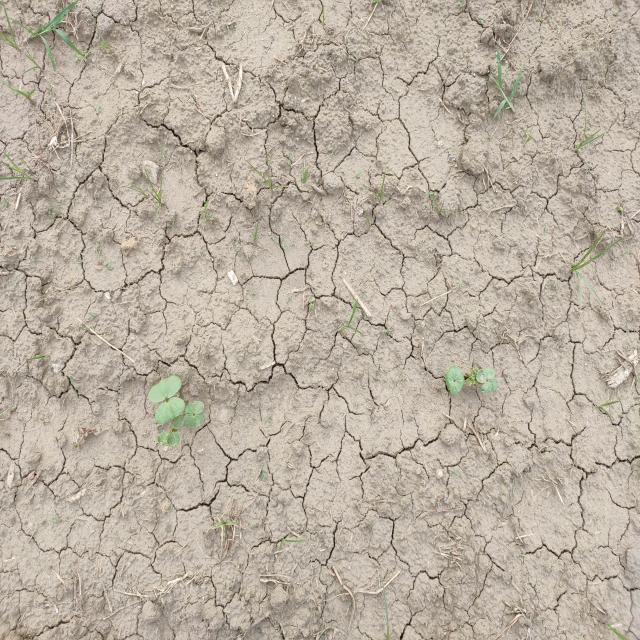seedling: (148, 376, 182, 403), (154, 397, 185, 424), (446, 366, 460, 391), (157, 431, 180, 446), (476, 366, 496, 383), (184, 401, 204, 416), (451, 373, 464, 395), (183, 414, 203, 428), (482, 378, 497, 394)
